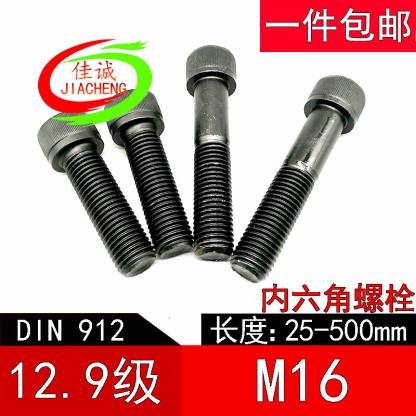FOD: (226, 73, 366, 283), (37, 109, 156, 278), (104, 88, 194, 259), (182, 43, 239, 264)
